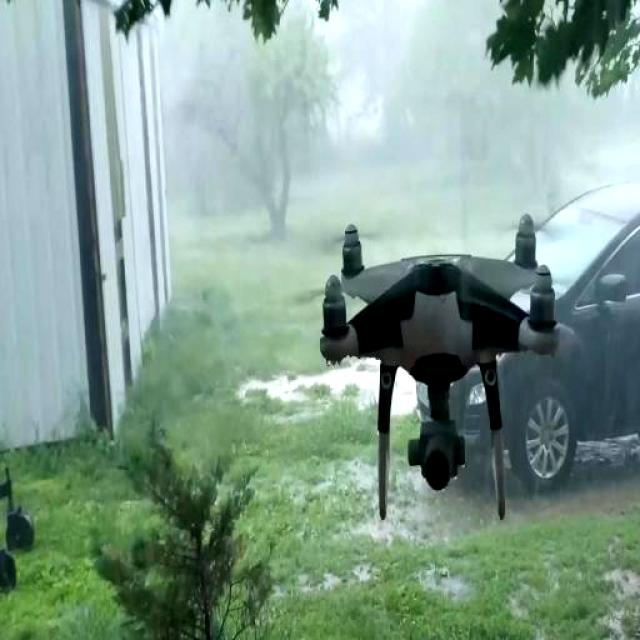bird: (310, 205, 569, 534)
